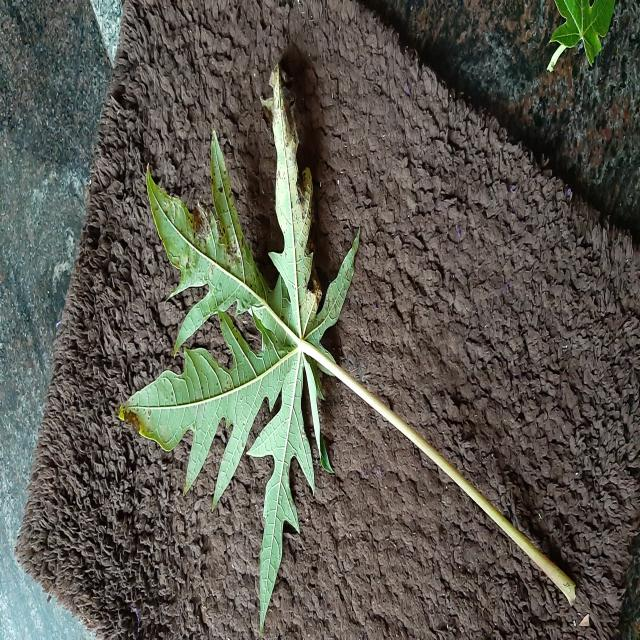seedling blight: (120, 68, 360, 629)
